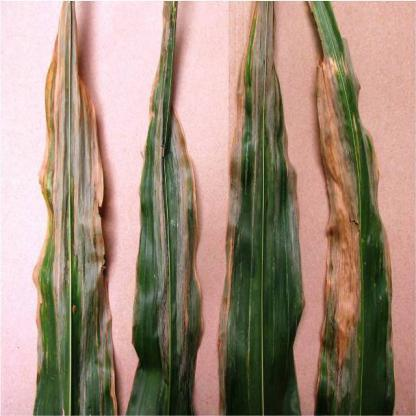Corn leaf blight: (308, 2, 406, 415), (26, 2, 119, 415), (216, 1, 305, 415), (125, 1, 208, 415)
